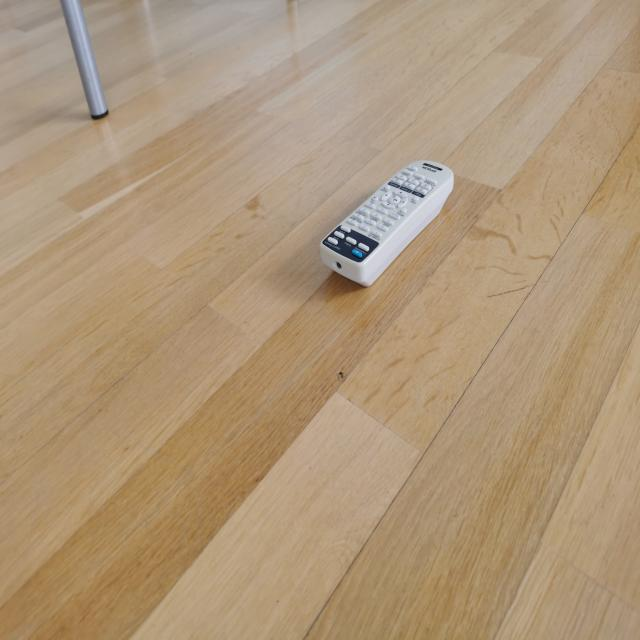remote: (317, 154, 456, 288)
